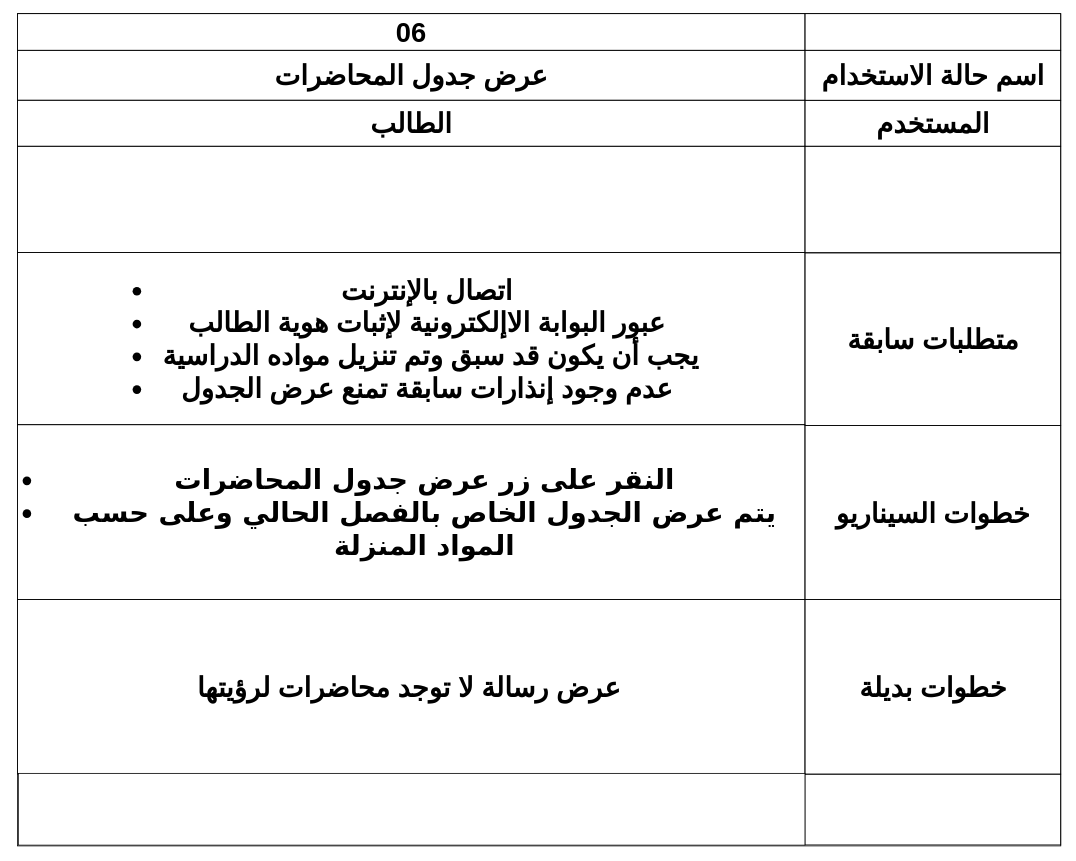
This 1076x861 diagram has some shape labels left out. The centre of each missing label's shape, as x and y in pixels:
الهدف النهائي: (x=932, y=809)
رقم حالة الاستخدام: (x=932, y=31)
عرض جدول خاص بالمحاضرات للمواد الدراسية للفصل الحالي للطالب: (x=411, y=198)
عرض شاشة جدول المحاضرات: (x=411, y=809)
وصف الحالة: (x=932, y=198)
